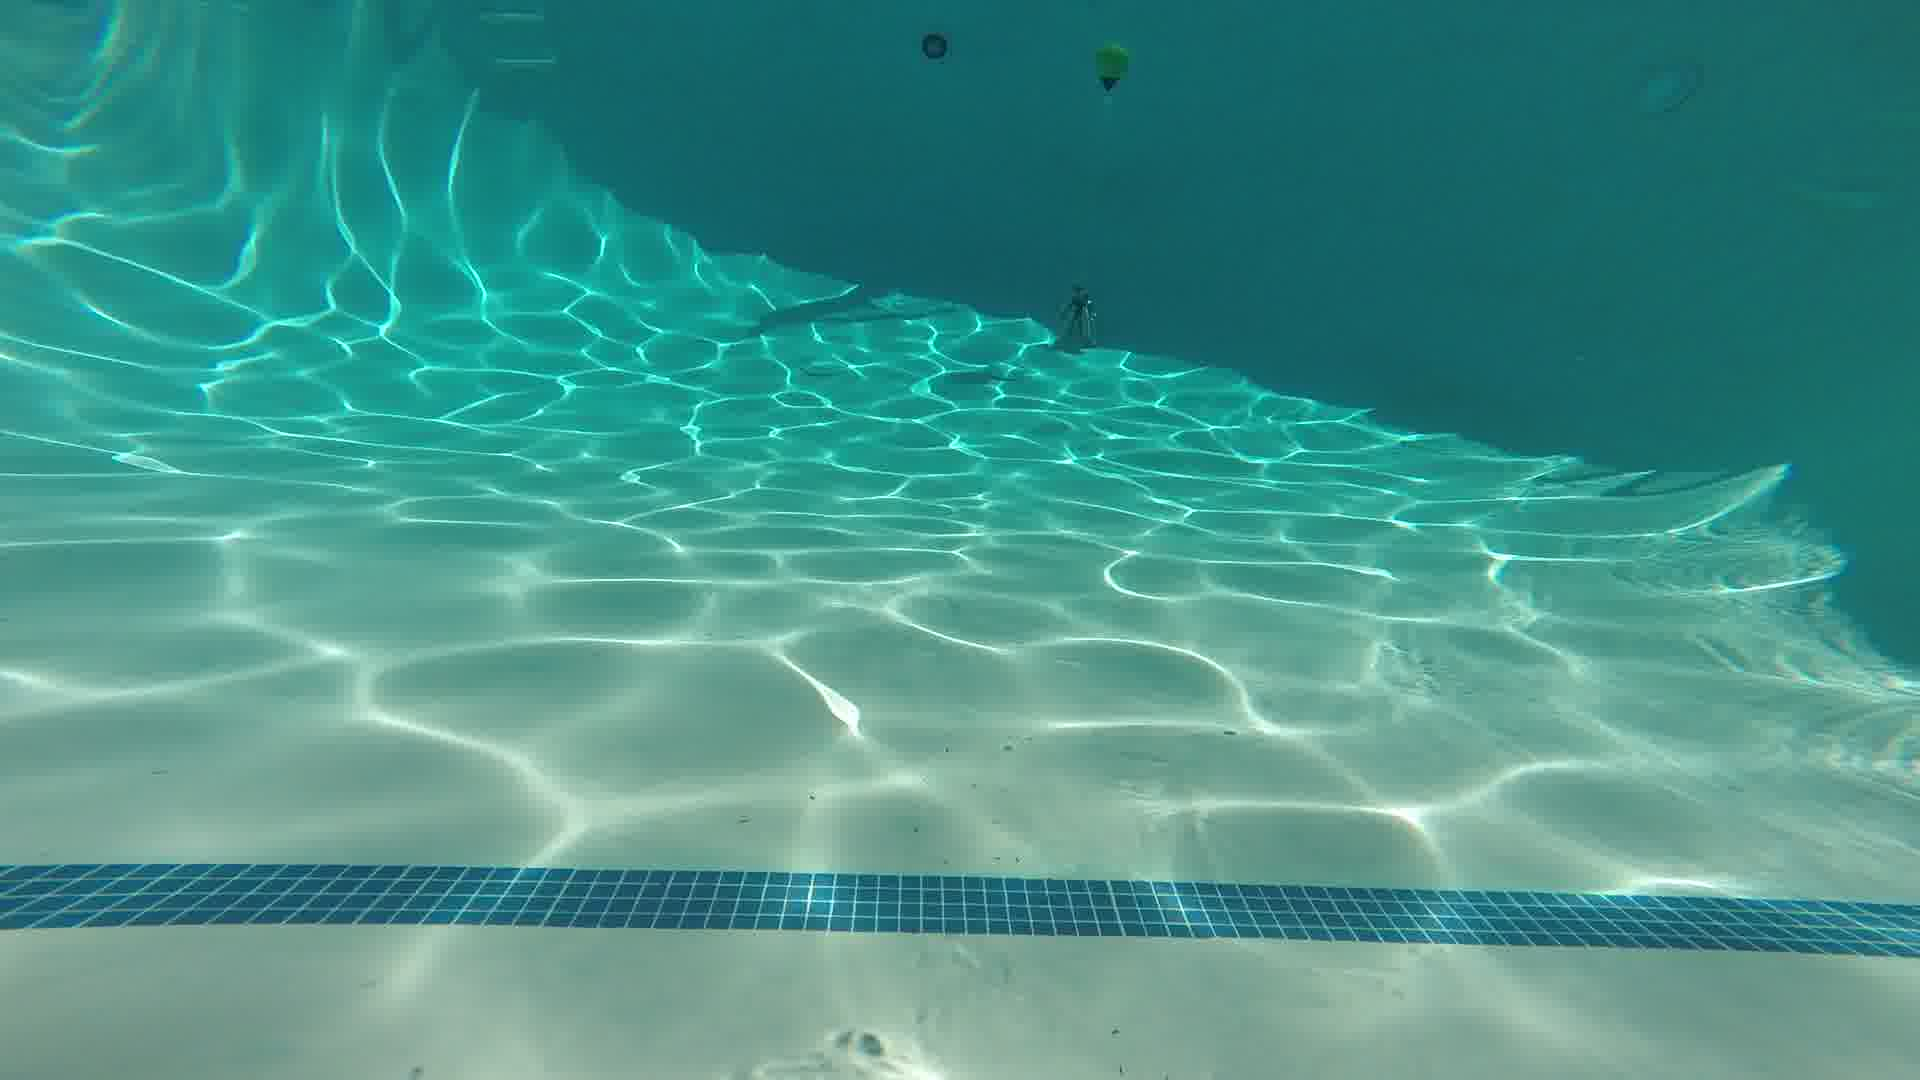yellow_buoy: (1093, 40, 1129, 90)
